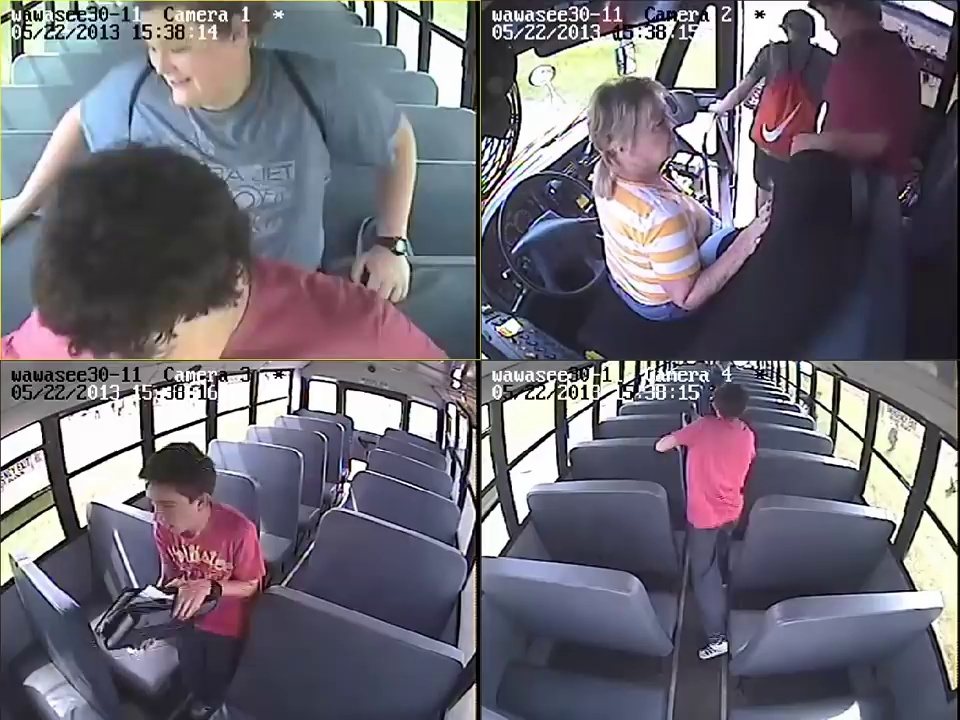face: (140, 32, 203, 112), (627, 90, 683, 168), (135, 475, 203, 534)
